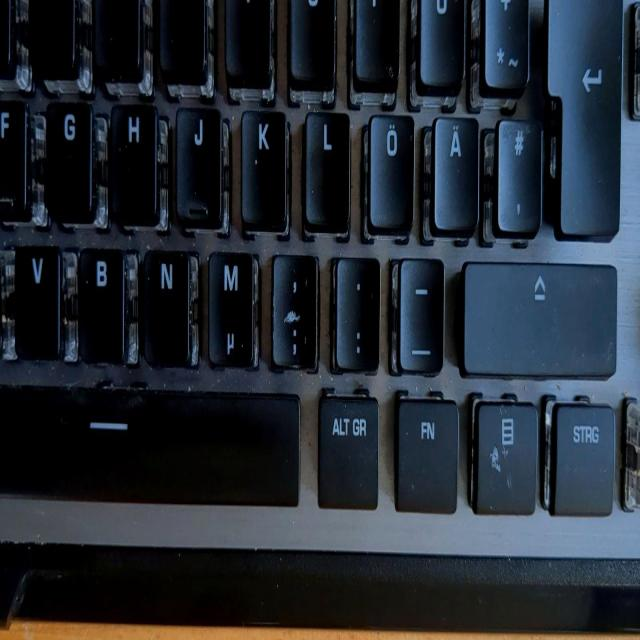ae: (432, 108, 479, 230)
altgr-right: (316, 390, 380, 509)
b: (77, 243, 123, 360)
comma: (268, 246, 319, 369)
enter: (544, 2, 626, 244)
f: (1, 92, 28, 216)
g: (44, 96, 90, 220)
h: (109, 97, 156, 222)
hash: (494, 113, 541, 235)
j: (173, 99, 221, 221)
k: (238, 102, 288, 228)
keyboard: (2, 0, 639, 630)
l: (302, 104, 351, 227)
m: (206, 245, 255, 366)
minus: (397, 251, 445, 371)
n: (141, 245, 189, 363)
oe: (365, 106, 414, 228)
point: (332, 249, 381, 368)
shift-right: (459, 253, 620, 375)
space: (11, 385, 306, 503)
strg-right: (552, 398, 617, 516)
v: (11, 240, 59, 357)
